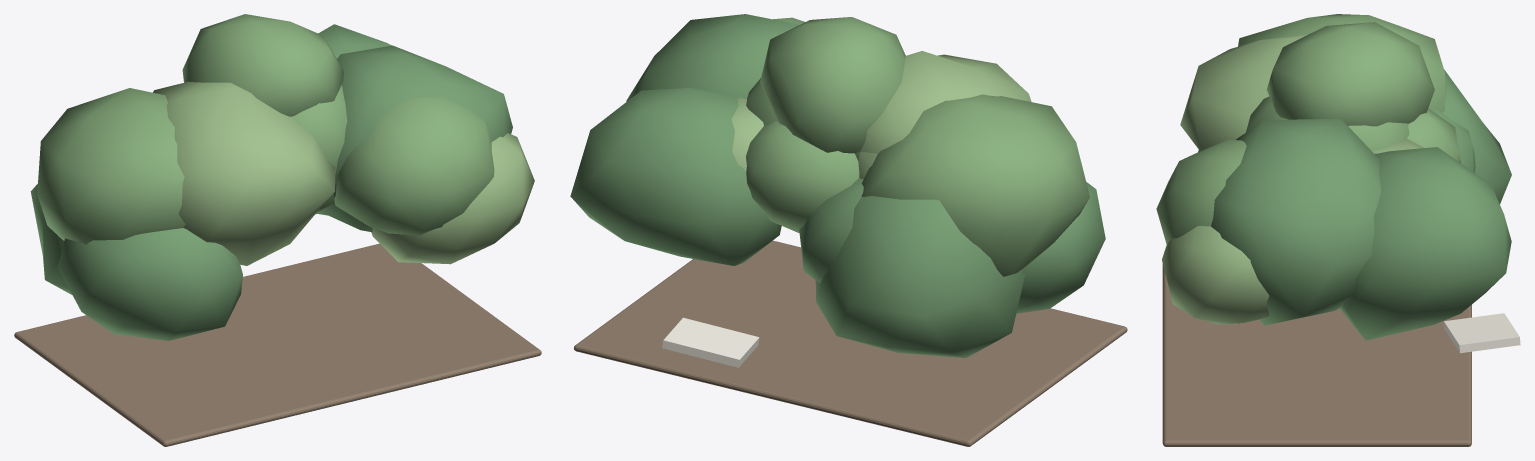
The model's file is bush.glb.
The picture shows the model from 3 angles, left to right: view 1: azimuth 30°, elevation 25°; view 2: azimuth 150°, elevation 25°; view 3: azimuth 270°, elevation 25°; orthographic projection. The views are drawn at different scales.
Visible parts, largest first — view 1: bush; view 2: bush; view 3: bush.
Part boxes in pixels (left/top/right/bottom): bush: left=14, top=14, right=541, bottom=446; bush: left=570, top=14, right=1127, bottom=446; bush: left=1156, top=14, right=1520, bottom=446.
Size of the model in its own units: 1.48 by 1.03 by 1.06.
